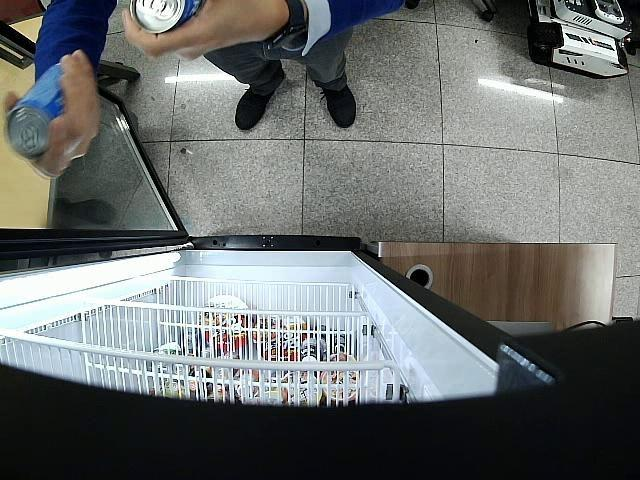15_letsbe: (5, 64, 66, 162), (128, 0, 208, 34)
